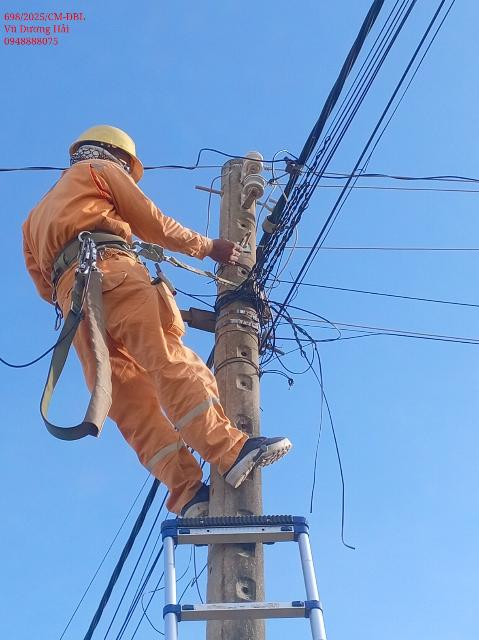harness: (11, 232, 157, 283)
helmet: (57, 118, 161, 180)
shoes: (208, 427, 298, 490), (169, 484, 231, 523)
